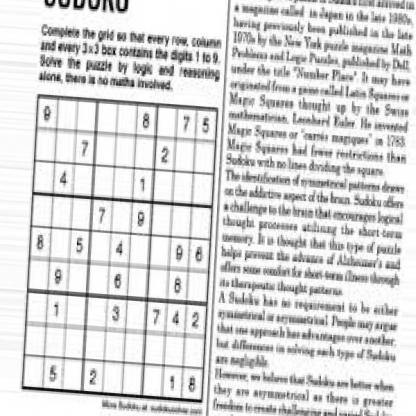sudoku: (18, 90, 219, 407)
